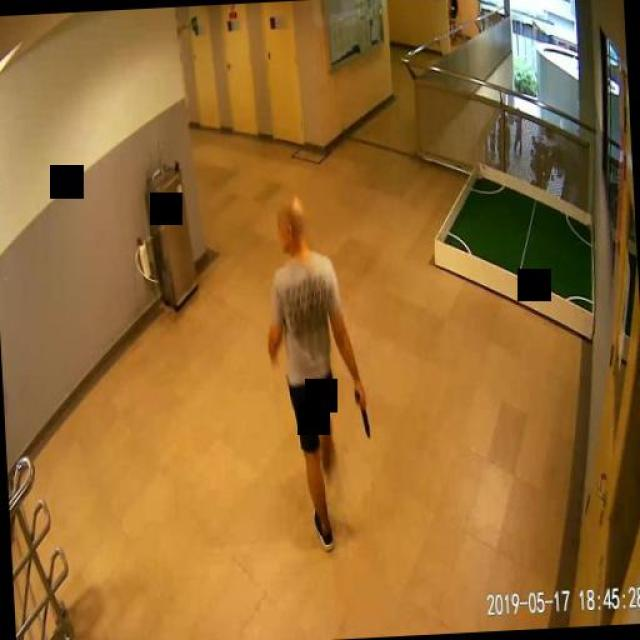gun: (352, 384, 370, 438)
